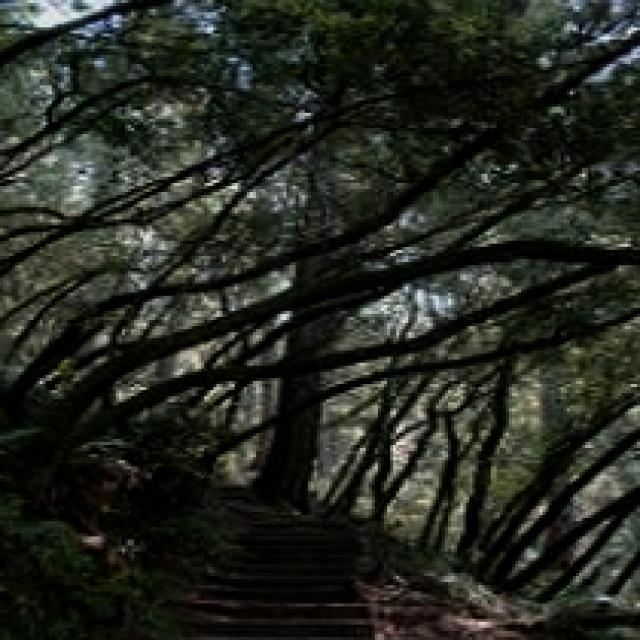upstair: (132, 476, 419, 640)
